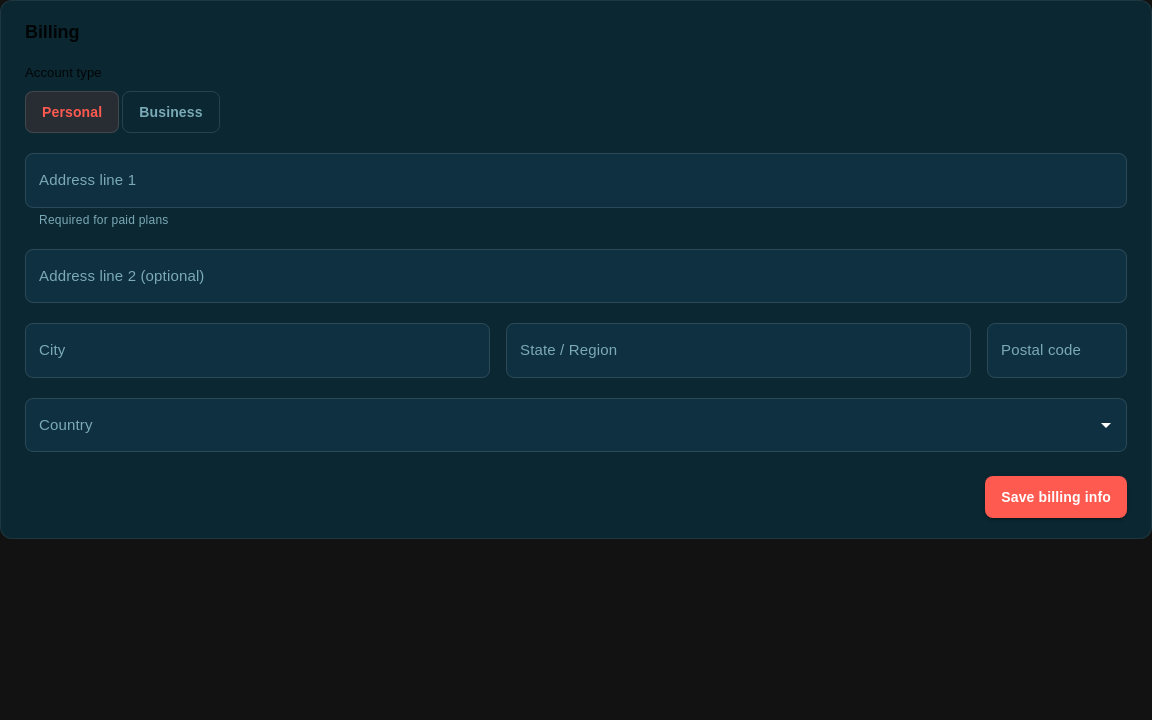
BillingSection › shows company name and VAT fields when Business is selected
The width and height of the screenshot is (1152, 720).
Click the button "Business".
click(171, 112)  # box [122, 91, 220, 133]
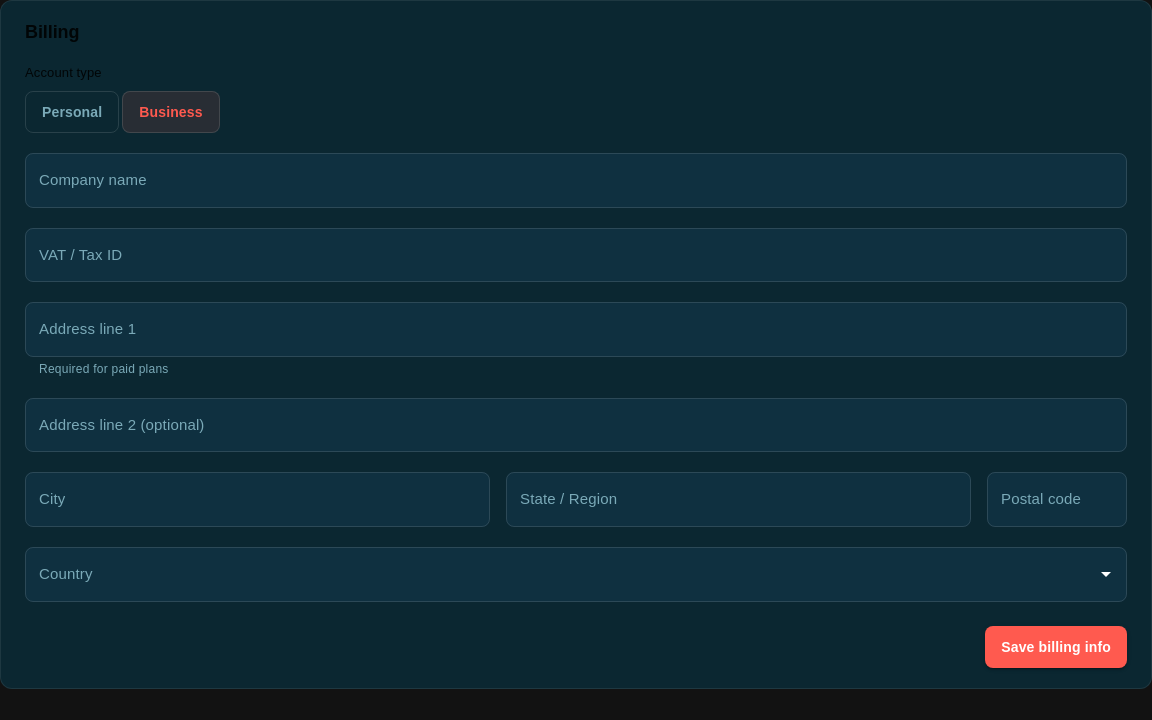
Expected: the field labelled "Company name" is shown, [25, 153, 1127, 208]
Expected: the field labelled "VAT / Tax ID" is shown, [25, 228, 1127, 282]
